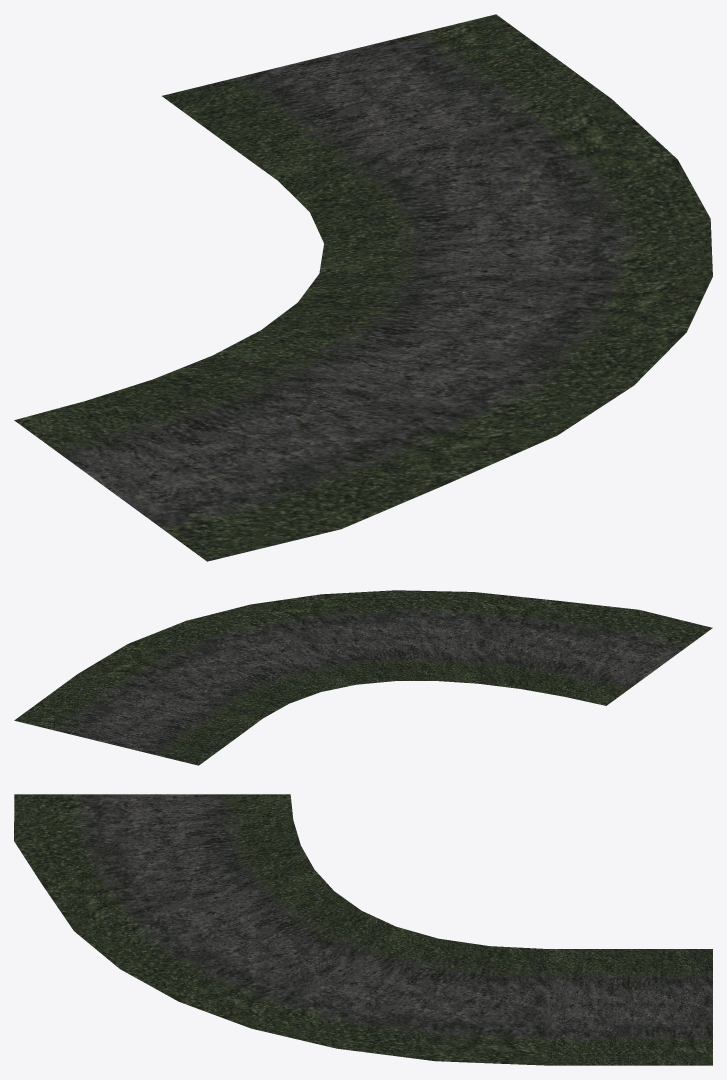
The model's file is SM_EC_Path_Mud_07.fbx.
3 renders of one model, top to bottom at view 1: azimuth 30°, elevation 25°; view 2: azimuth 150°, elevation 25°; view 3: azimuth 270°, elevation 25°, orthographic. The views are drawn at different scales.
Parts seen in each view (by area): view 1: SM_EC_Path_Mud_07; view 2: SM_EC_Path_Mud_07; view 3: SM_EC_Path_Mud_07.
Boxes of the visible parts, bbox=[...] form: SM_EC_Path_Mud_07: bbox=[14, 14, 712, 561]; SM_EC_Path_Mud_07: bbox=[14, 590, 712, 765]; SM_EC_Path_Mud_07: bbox=[14, 794, 712, 1065].
Bounding box in the file's own units: 6.97 × 7.59 × 5.68e-13.
